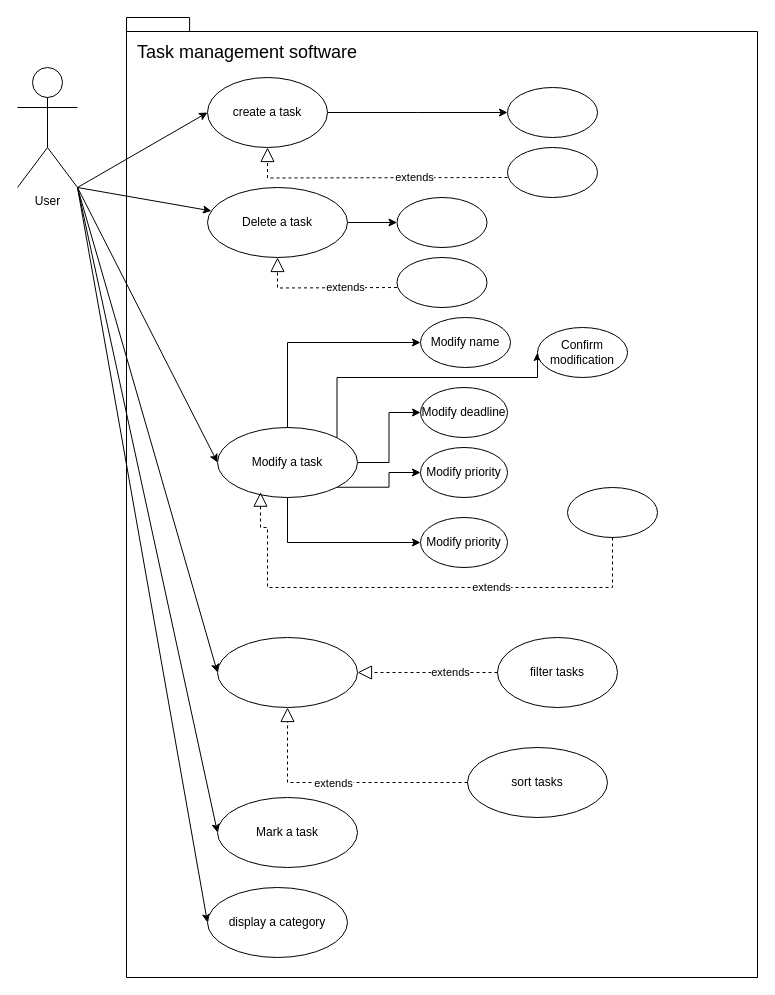
Image size: 775x995. Some labels were removed from this diagram. Here are the shapes that lost their labels. From the top down, the centre of each, then its label:
At (552,112): "Confirm creating".
At (552,172): "Cancel creating".
At (441,222): "Confirm deleting".
At (441,282): "Cancel deleting".
At (612,512): "Cancel modifying".
At (287,672): "display tasks".
